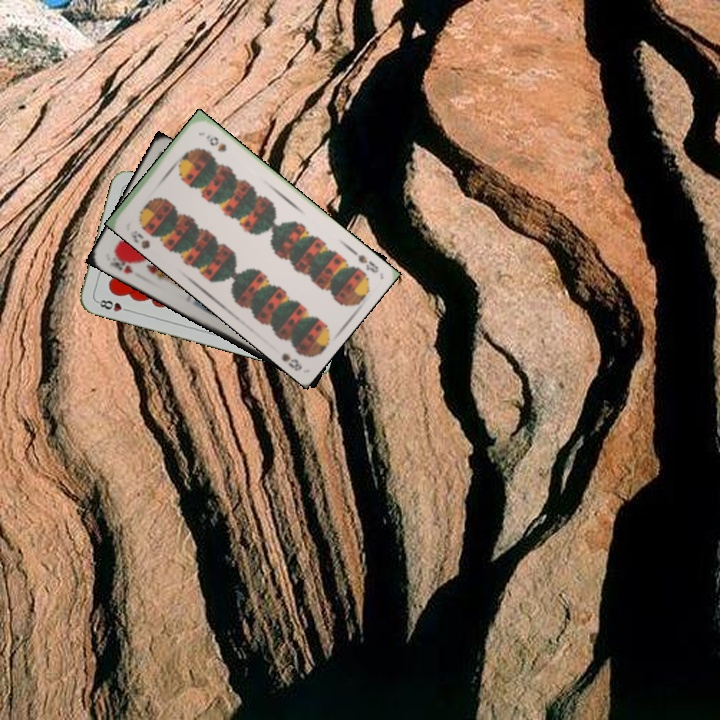H8: (93, 295, 133, 314)
HK: (106, 250, 135, 276)
S8: (346, 245, 381, 276), (126, 226, 153, 251)
